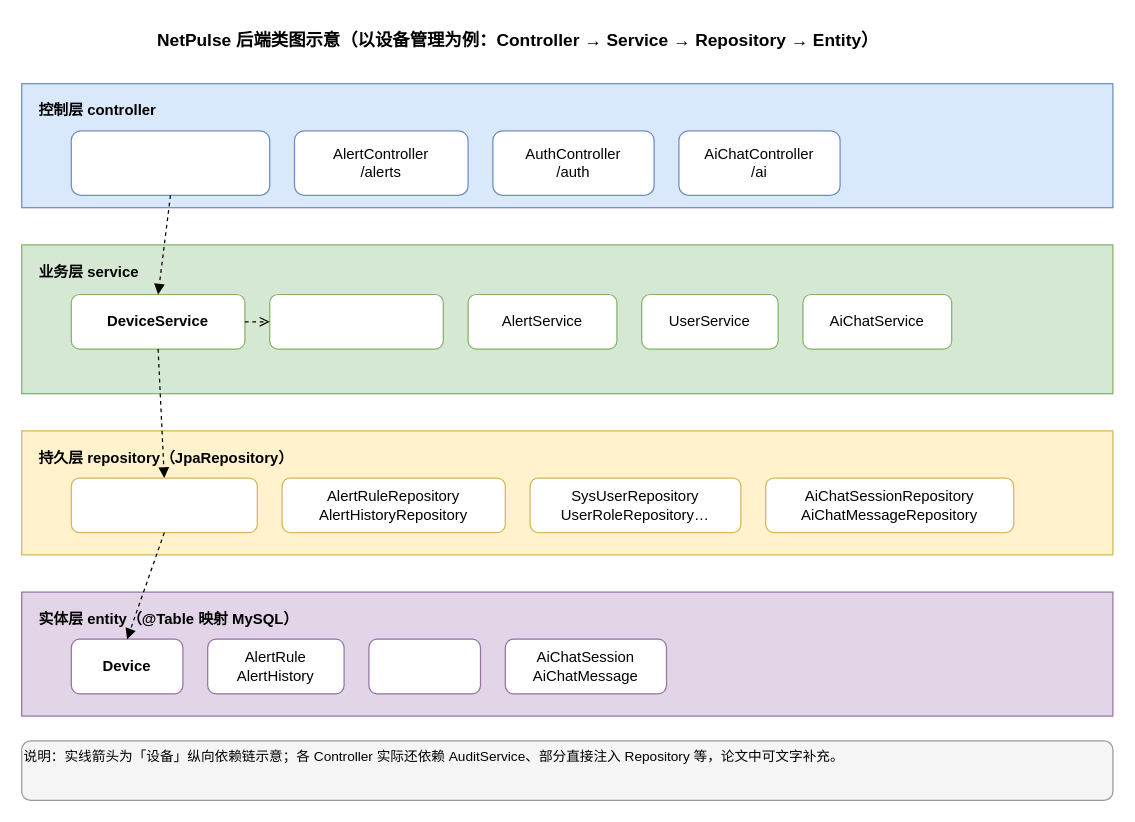
This 1135x822 diagram has some shape labels left out. Each missing label, with the centre of its shape:
DeviceController /devices: the point at 170,162
DeviceRepository: the point at 163,505
MonitorService: the point at 355,321
SysUser Role: the point at 424,666
